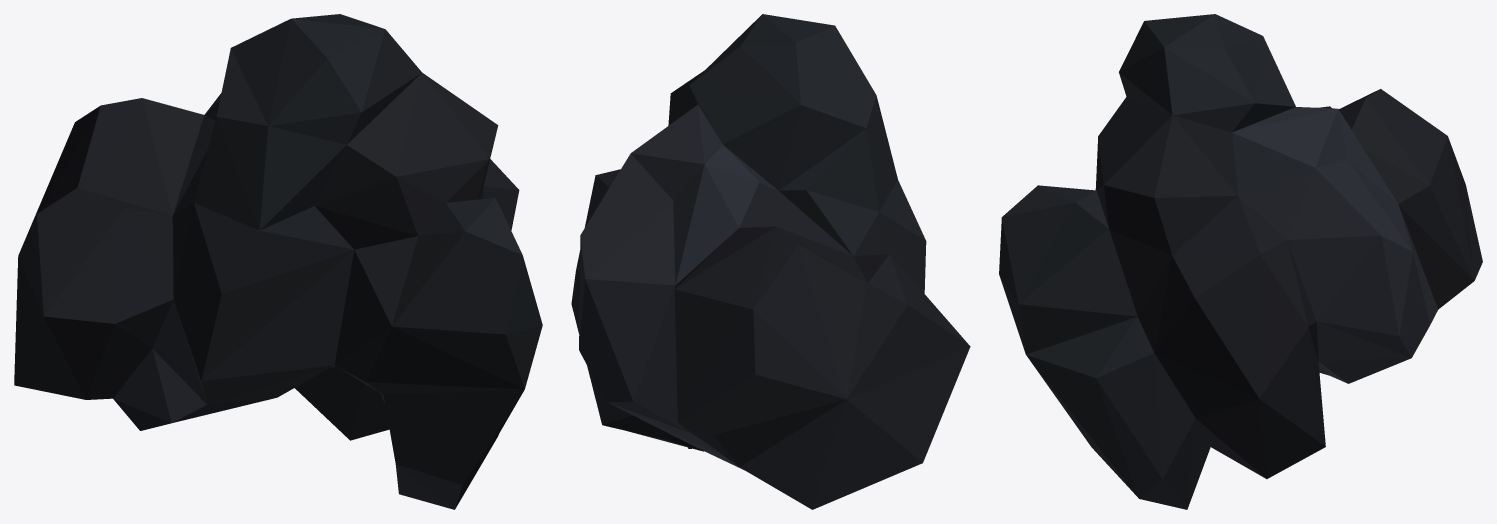
Rendered from rock_group_02.fbx.
3 renders of one model, left to right at view 1: azimuth 30°, elevation 25°; view 2: azimuth 150°, elevation 25°; view 3: azimuth 270°, elevation 25°, orthographic. The views are drawn at different scales.
Parts seen in each view (by area): view 1: rock_group_02; view 2: rock_group_02; view 3: rock_group_02.
Boxes of the visible parts, box(x1,y1,x2,y2) form: rock_group_02: box(14, 14, 542, 509); rock_group_02: box(571, 14, 970, 509); rock_group_02: box(999, 14, 1482, 509).
Bounding box in the file's own units: 715 × 762 × 763.
